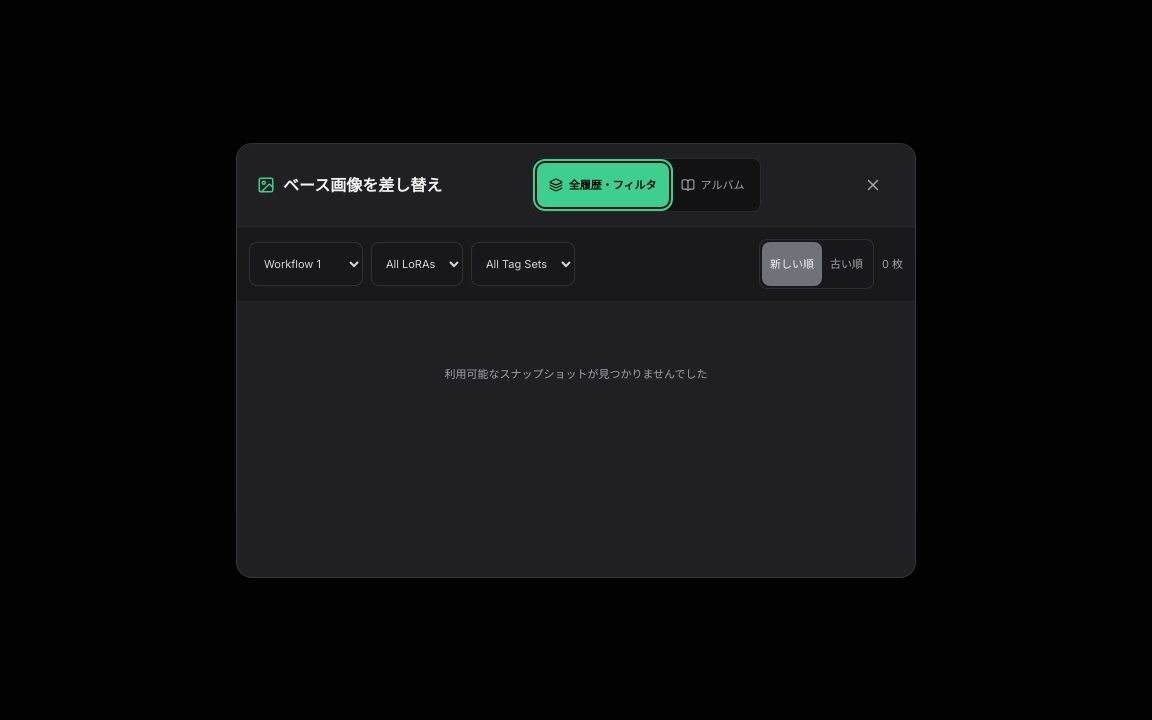
Test case: BaseImageSelectModal › renders empty states when no snapshots or albums available
Expected: the text "利用可能なスナップショットが見つかりませんでした" is shown, [444,366,708,380]
Click the button "アルバム" at x=712, y=184, box [668,162,756,206]
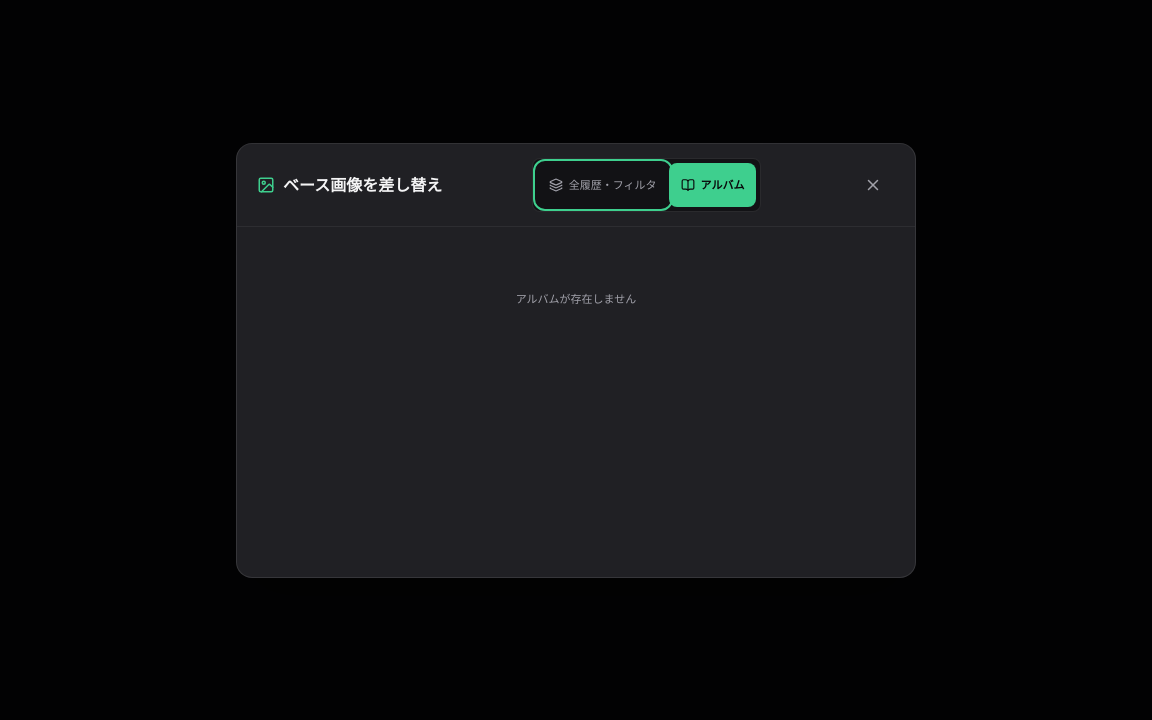
Expected: the text "アルバムが存在しません" is shown, [516,292,636,306]
